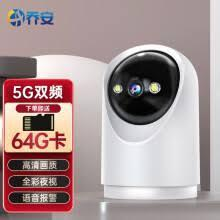maru: (92, 42, 201, 205)
